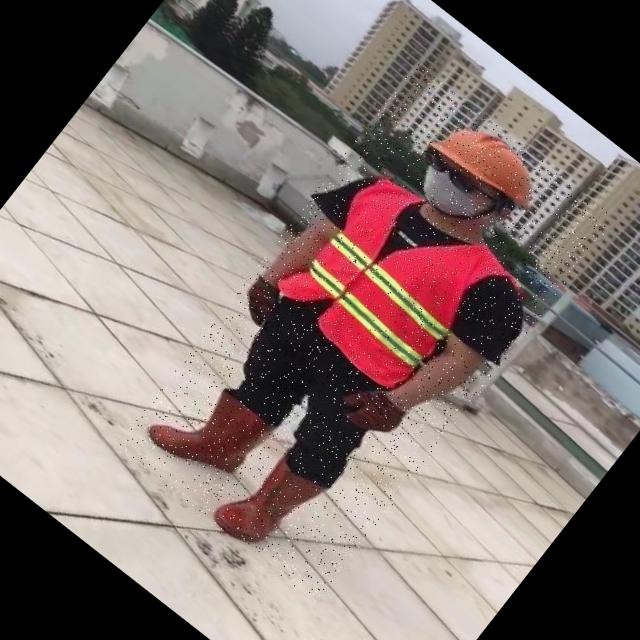hard_hat: (422, 104, 548, 219)
safety_vest: (269, 160, 511, 402)
vehicle: (116, 62, 616, 604)
work_boots: (146, 368, 277, 497), (211, 444, 328, 566)
